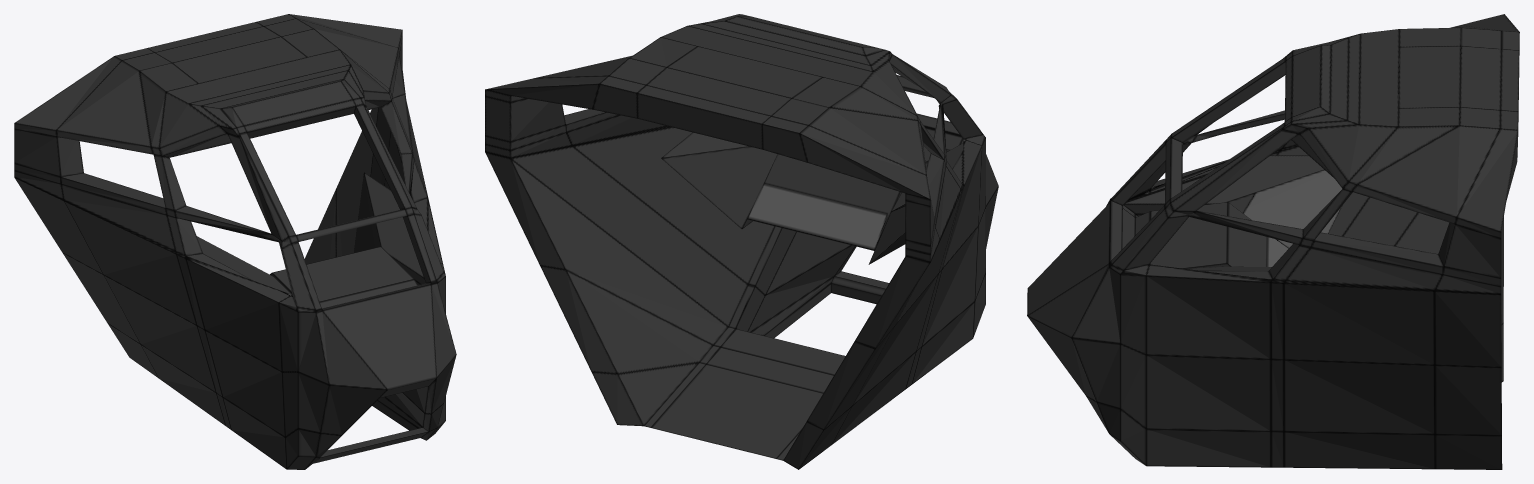
File: cockpitMk3d.obj
The picture shows the model from 3 angles, left to right: view 1: azimuth 30°, elevation 25°; view 2: azimuth 150°, elevation 25°; view 3: azimuth 270°, elevation 25°; orthographic projection. The views are drawn at different scales.
Parts seen in each view (by area): view 1: Cube; view 2: Cube; view 3: Cube.
Part boxes in pixels (x1,y1,x2,y2): Cube: [14, 14, 456, 469]; Cube: [485, 14, 998, 469]; Cube: [1027, 14, 1519, 469].
Bounding box in the file's own units: 4.88 × 3.64 × 4.66.
